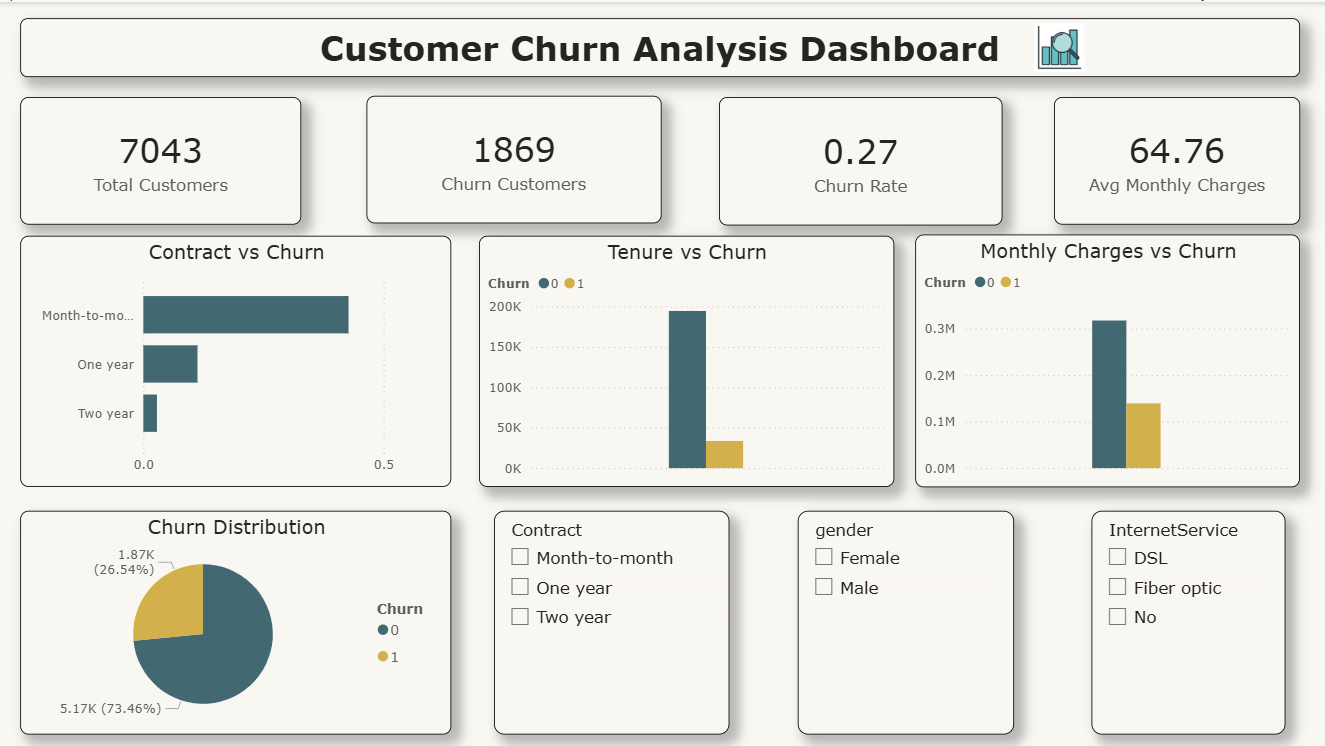

The dashboard page shown, as its layout file describes it:
{"tool":"powerbi","page":{"name":"Page 1","canvas":[1280,720],"ordinal":0},"visuals":[{"type":"card","fields":{"Values":["cleaned_data.Avg Monthly Charges"]},"box":[1018.2,91.7,237.7,123.1],"z":0},{"type":"card","fields":{"Values":["cleaned_data.Churn Customers"]},"box":[354.7,90.5,284.7,123.1],"z":1000},{"type":"card","fields":{"Values":["cleaned_data.Churn Rate"]},"box":[694.9,91.7,273.9,124.3],"z":2000},{"type":"card","fields":{"Values":["cleaned_data.Total Customers"]},"box":[20.5,91.7,271.4,123.1],"z":3000},{"type":"pieChart","title":"Churn Distribution","fields":{"Y":["CountNonNull(cleaned_data.Churn)"],"Series":["cleaned_data.Churn"]},"box":[20.5,491,416.2,216],"z":4000},{"type":"barChart","title":"Contract vs Churn","fields":{"Category":["cleaned_data.Contract"],"Y":["Avg(cleaned_data.Churn)"]},"box":[20.5,225.6,416.2,242.5],"z":5000},{"type":"clusteredColumnChart","title":"Monthly Charges vs Churn","fields":{"Y":["Sum(cleaned_data.MonthlyCharges)"],"Series":["cleaned_data.Churn"]},"box":[884.3,224.4,371.6,243.7],"z":6000},{"type":"clusteredColumnChart","title":"Tenure vs Churn","fields":{"Y":["Sum(cleaned_data.tenure)"],"Series":["cleaned_data.Churn"]},"box":[463.3,225.6,400.5,242.5],"z":7000},{"type":"slicer","fields":{"Values":["cleaned_data.Contract"]},"box":[477.8,491,226.8,216],"z":8000},{"type":"slicer","fields":{"Values":["cleaned_data.gender"]},"box":[770.9,491,208.7,216],"z":9000},{"type":"slicer","fields":{"Values":["cleaned_data.InternetService"]},"box":[1054.4,491,187,216],"z":10000},{"type":"textbox","box":[20.5,15.7,1235.4,56.7],"z":11000},{"type":"image","box":[991.7,20.5,62.7,47.1],"z":12000}]}

Visuals, with their boxes in screenshot pixels (x1, y1, x2, y2), scaled from the page's 1280x720 canvas onto the 1325x746 screenshot:
card - cleaned_data.Avg Monthly Charges: 1054 95 1300 223
card - cleaned_data.Churn Customers: 367 94 662 221
card - cleaned_data.Churn Rate: 719 95 1003 224
card - cleaned_data.Total Customers: 21 95 302 223
"Churn Distribution" pieChart: 21 509 452 733
"Contract vs Churn" barChart: 21 234 452 485
"Monthly Charges vs Churn" clusteredColumnChart: 915 233 1300 485
"Tenure vs Churn" clusteredColumnChart: 480 234 894 485
slicer - cleaned_data.Contract: 495 509 729 733
slicer - cleaned_data.gender: 798 509 1014 733
slicer - cleaned_data.InternetService: 1091 509 1285 733
textbox: 21 16 1300 75
image: 1027 21 1091 70
